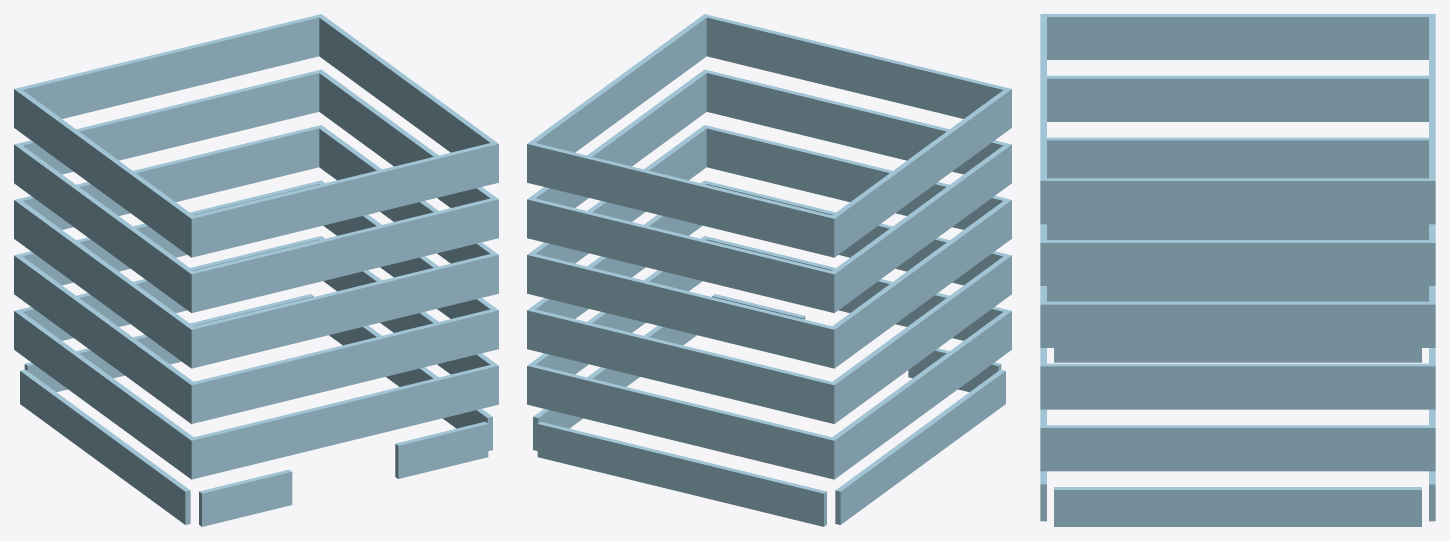
File: building_big_1_reflections.obj
3 renders of one model, left to right at view 1: azimuth 30°, elevation 25°; view 2: azimuth 150°, elevation 25°; view 3: azimuth 270°, elevation 25°, orthographic. The views are drawn at different scales.
Size of the model in its own units: 5.8 by 5.6 by 5.8.
1 material, 1 textured.
